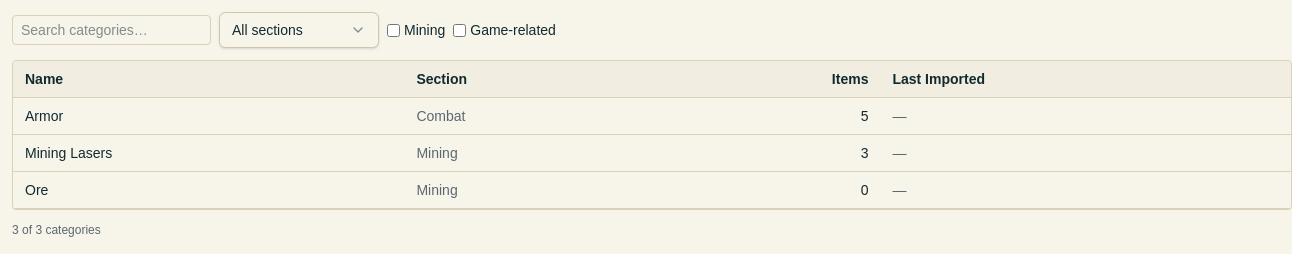
Test: CategorySelector › filters by mining toggle
This screenshot has width=1292, height=254.
Click the checkbox labelled "Mining": (394, 30) x1=387 y1=24 x2=400 y2=36
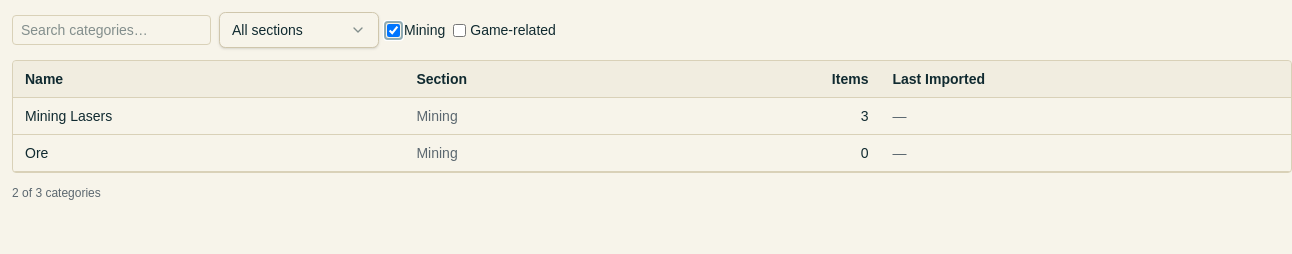
Expected: the text "Mining Lasers" is shown, x1=13 y1=98 x2=404 y2=134
Expected: the text "Armor" is gone
